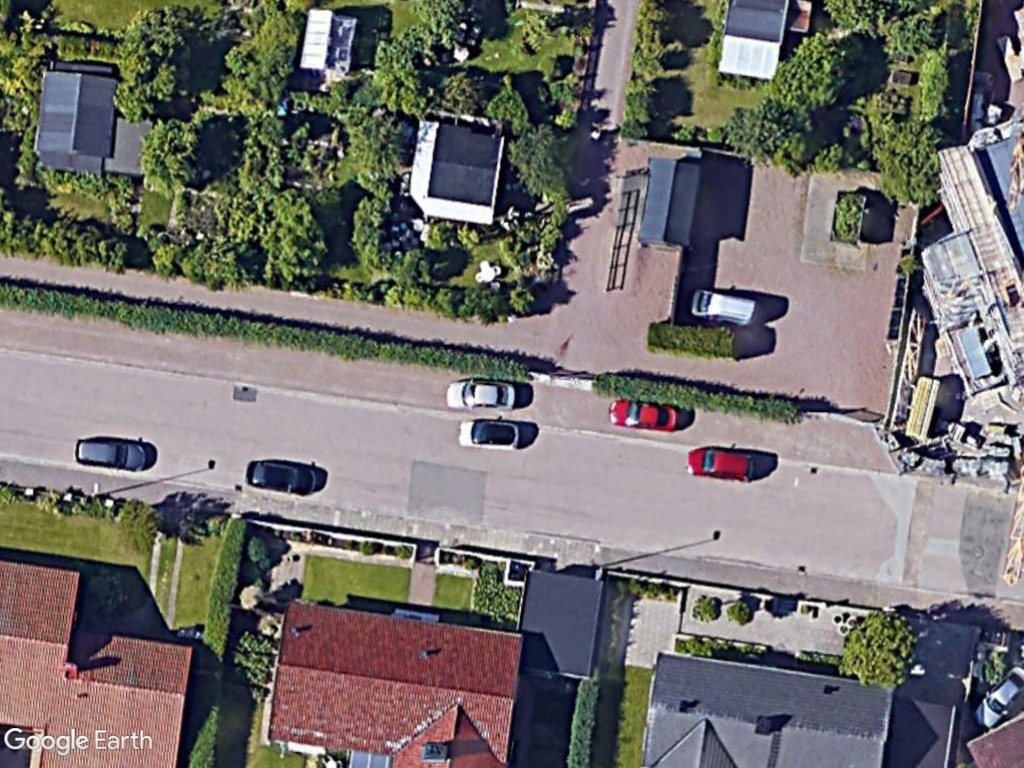car: (242, 457, 324, 499), (684, 445, 764, 485), (74, 433, 154, 473), (605, 394, 684, 434), (443, 375, 521, 415), (455, 417, 528, 454)
van: (684, 284, 765, 328)
